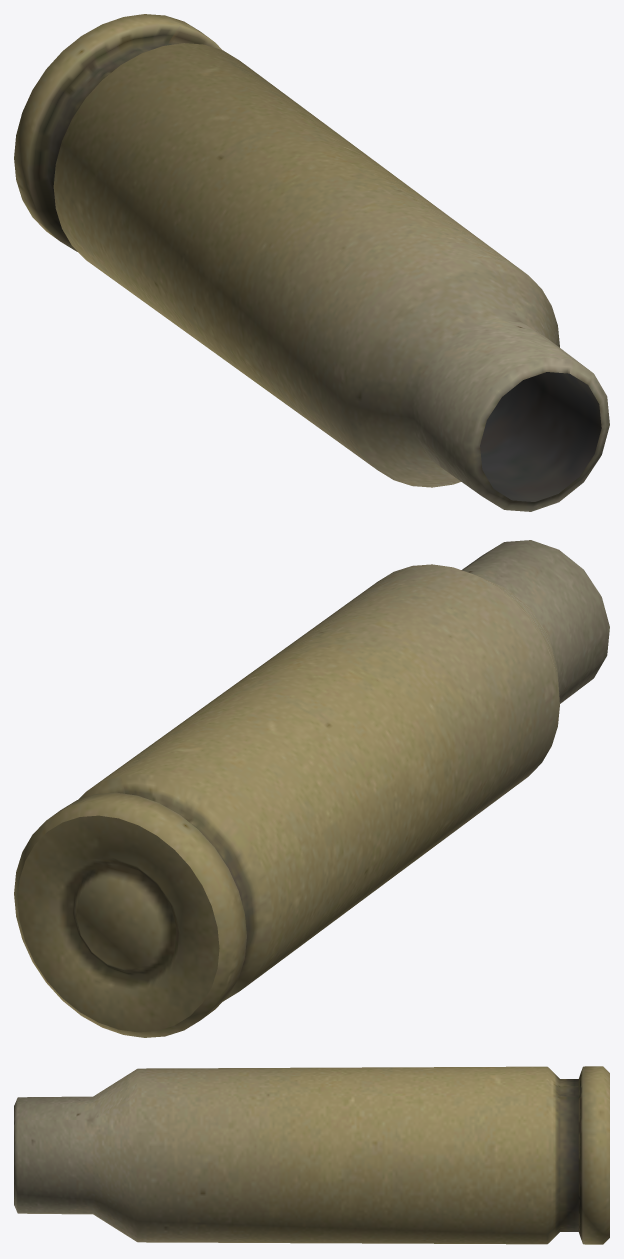
The model's file is casing_p90_casing.glb.
3 renders of one model, top to bottom at view 1: azimuth 30°, elevation 25°; view 2: azimuth 150°, elevation 25°; view 3: azimuth 270°, elevation 25°, orthographic. The views are drawn at different scales.
Visible parts, largest first — view 1: casing_p90_casing; view 2: casing_p90_casing; view 3: casing_p90_casing.
Boxes of the visible parts, x1,y1,x2,y2 form: casing_p90_casing: (14,14,609,511); casing_p90_casing: (14,540,609,1037); casing_p90_casing: (14,1066,609,1244).
Size of the model in its own units: 0.00883 by 0.00883 by 0.0295.
1 material, 1 textured.
